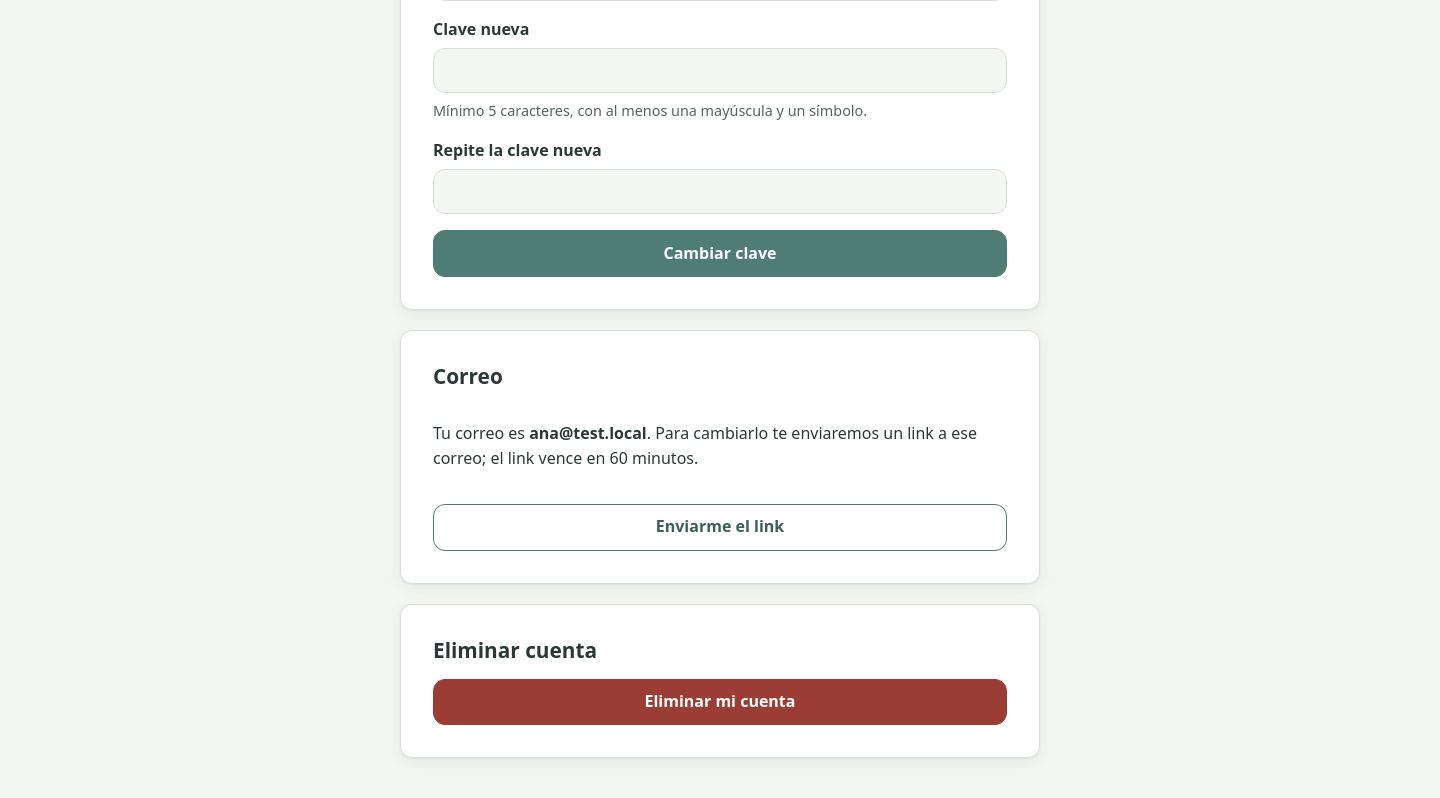
Test: al eliminar la cuenta desde el perfil vuelve al inicio, no al login
The width and height of the screenshot is (1440, 798).
(page scrolled)
Click the button "Eliminar mi cuenta".
click(720, 702)  # box [433,679,1007,725]
(page scrolled)
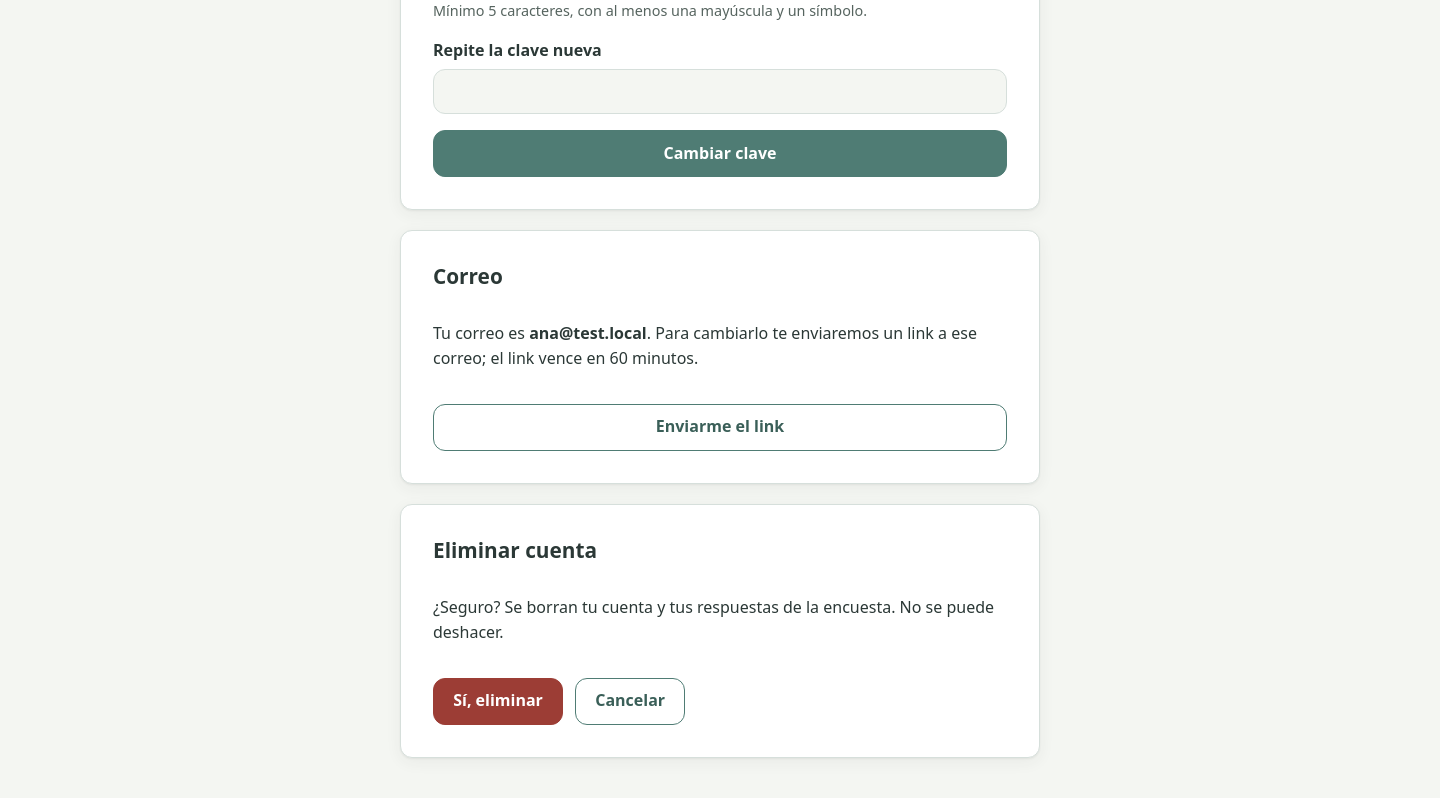
Click the button "Sí, eliminar".
click(498, 701)  # box [433,678,563,725]
(page scrolled)
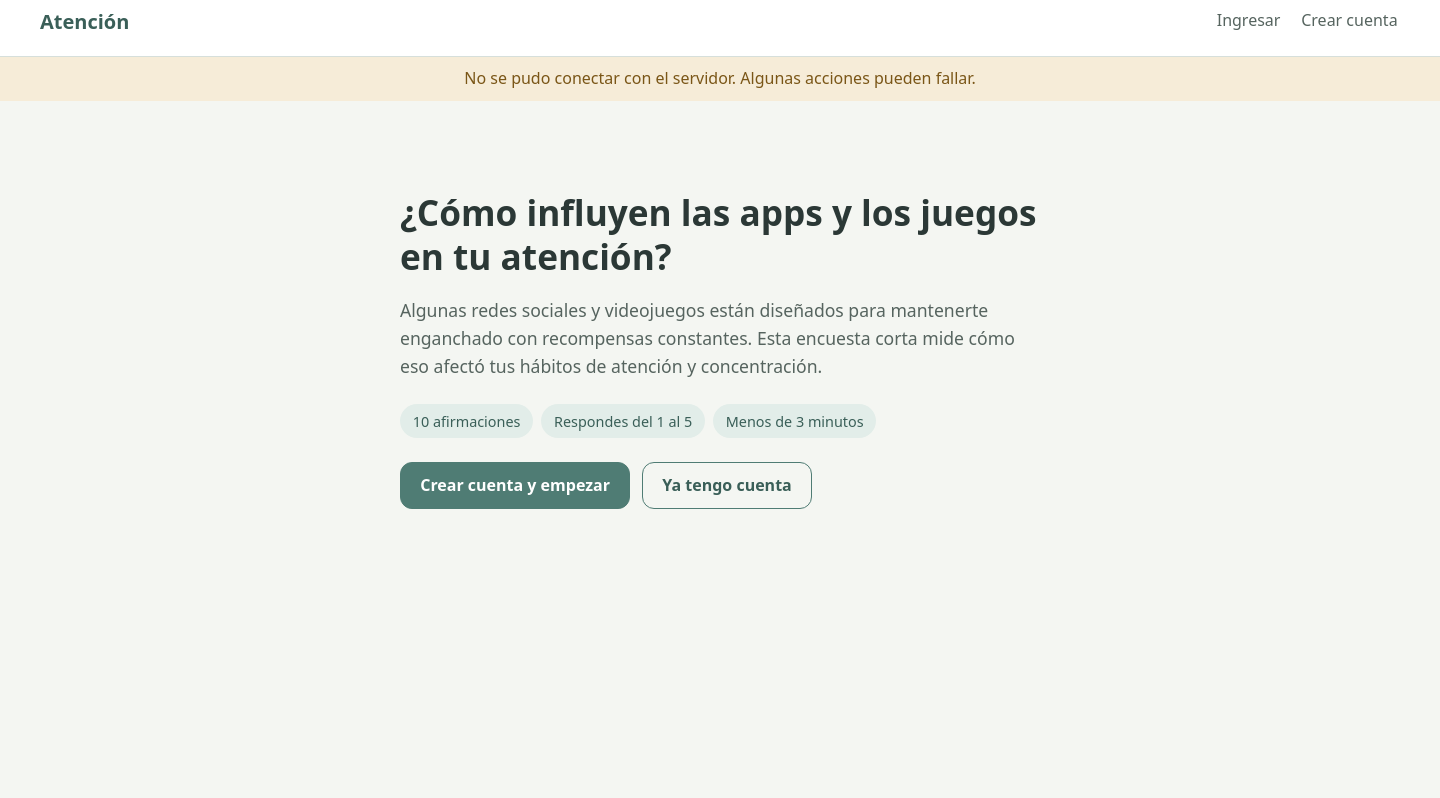
expect the link "Crear cuenta y empezar" is shown: met, box [400,462,630,509]
